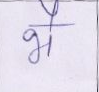ai_matra: (40, 0, 60, 24)
